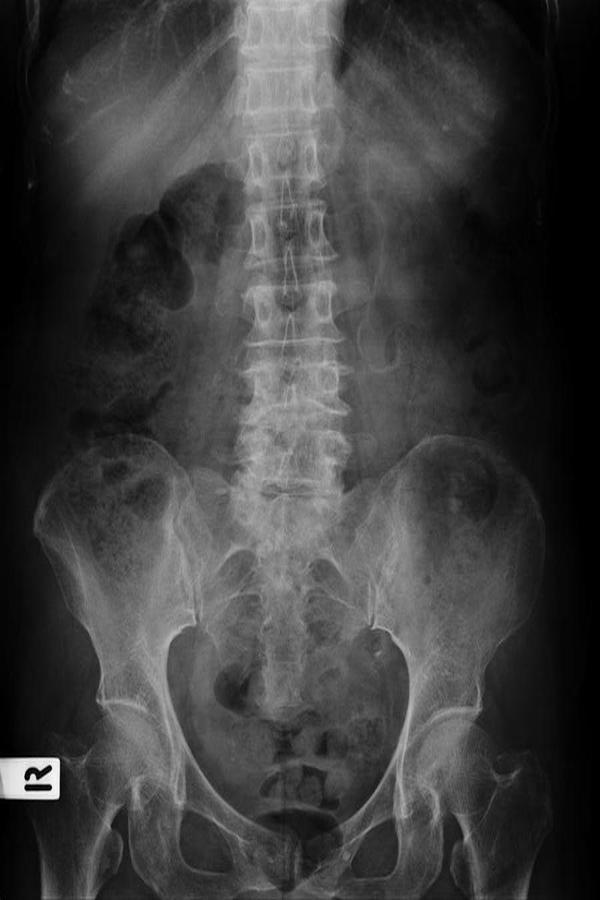lumbar scoliosis: (225, 11, 348, 556)
